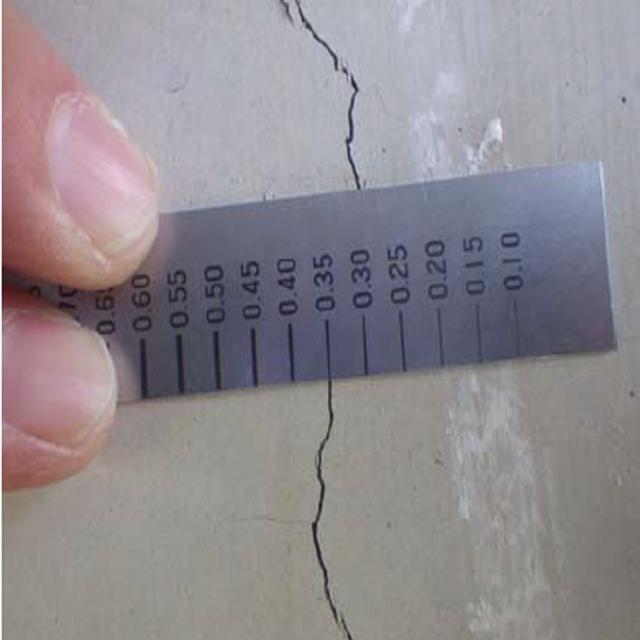crack: (270, 0, 389, 196), (287, 383, 372, 640)
